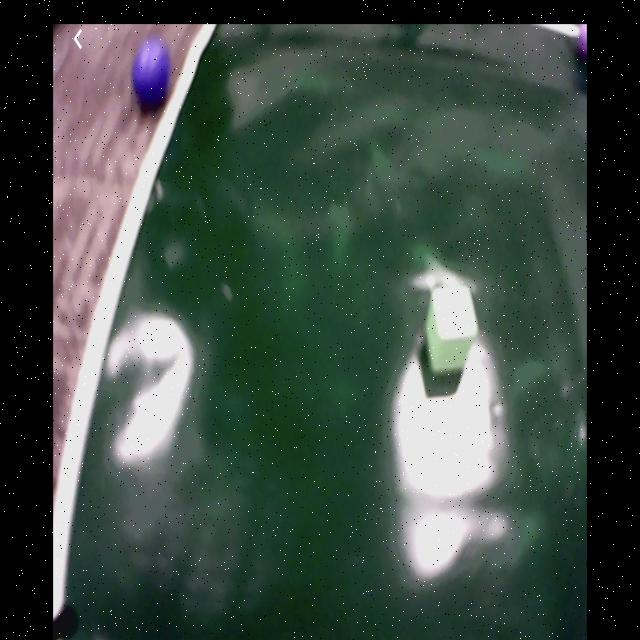ball: (134, 41, 170, 108), (576, 25, 588, 55)
